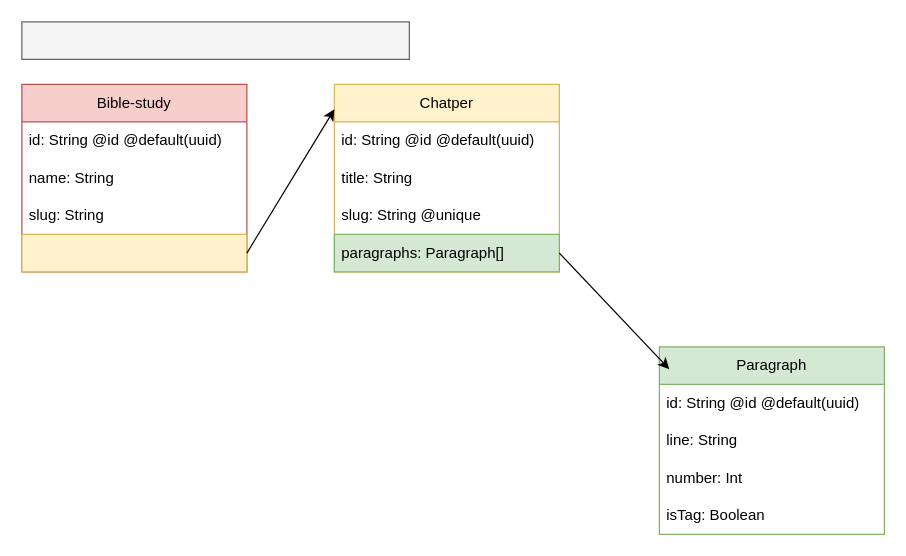
Image size: 906x556. Some labels were removed from this diagram. The shapes that lost their labels are listed below. From the top down, each one's centre as x and y in pixels, then its label:
At point (215, 40): "Bible study guide Prisma Schema".
At point (134, 252): "chapters: Chapter[]".
